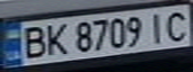0: (109, 15, 130, 49)
7: (90, 17, 112, 52)
8: (72, 18, 93, 53)
9: (124, 14, 148, 47)
B: (15, 22, 48, 60)
C: (160, 7, 193, 43)
I: (142, 10, 172, 44)
K: (42, 20, 69, 56)
